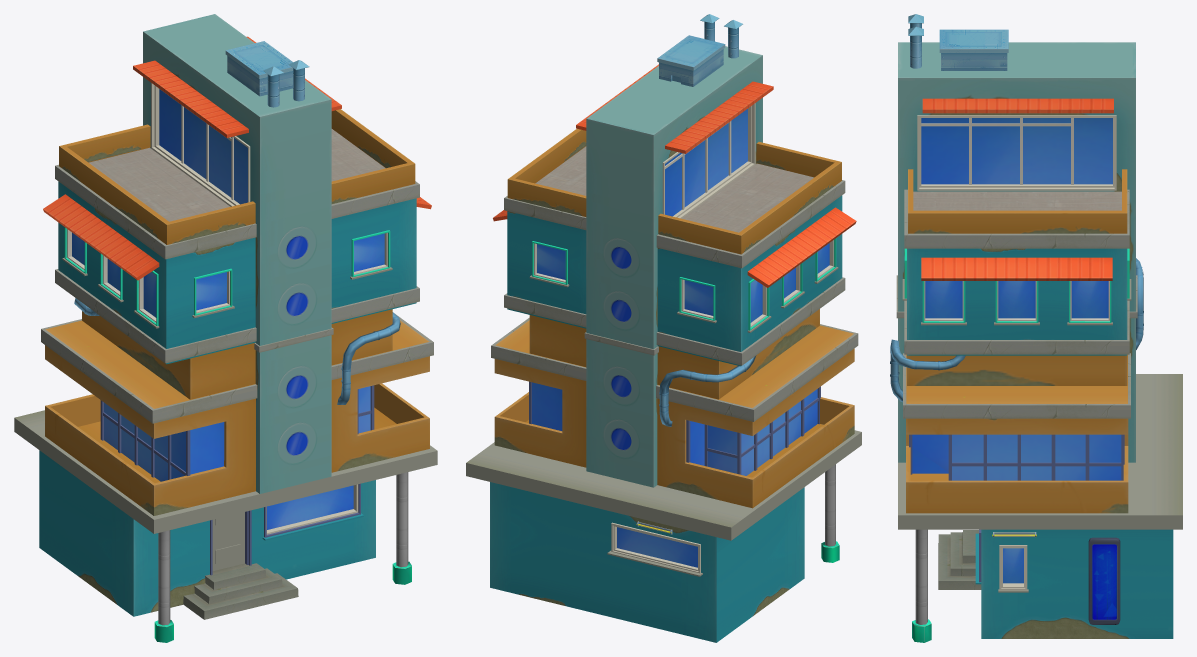
Rendered from Building_06_3_LOD2.fbx.
3 views of the same model, side by side, from view 1: azimuth 30°, elevation 25°; view 2: azimuth 150°, elevation 25°; view 3: azimuth 270°, elevation 25° (orthographic). The views are drawn at different scales.
Parts seen in each view (by area): view 1: polySurface4242; view 2: polySurface4242; view 3: polySurface4242.
Part boxes in pixels (x1=…): polySurface4242: x1=14, y1=14, x2=437, y2=642; polySurface4242: x1=466, y1=14, x2=861, y2=642; polySurface4242: x1=890, y1=14, x2=1182, y2=642.
Size of the model in its own units: 980 by 1740 by 825.
